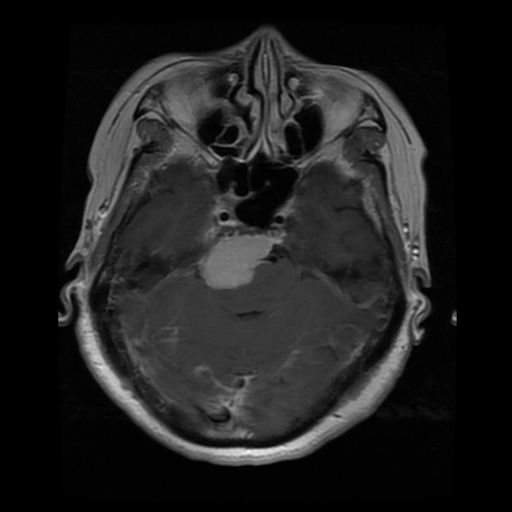meningioma: (199, 232, 278, 289)
